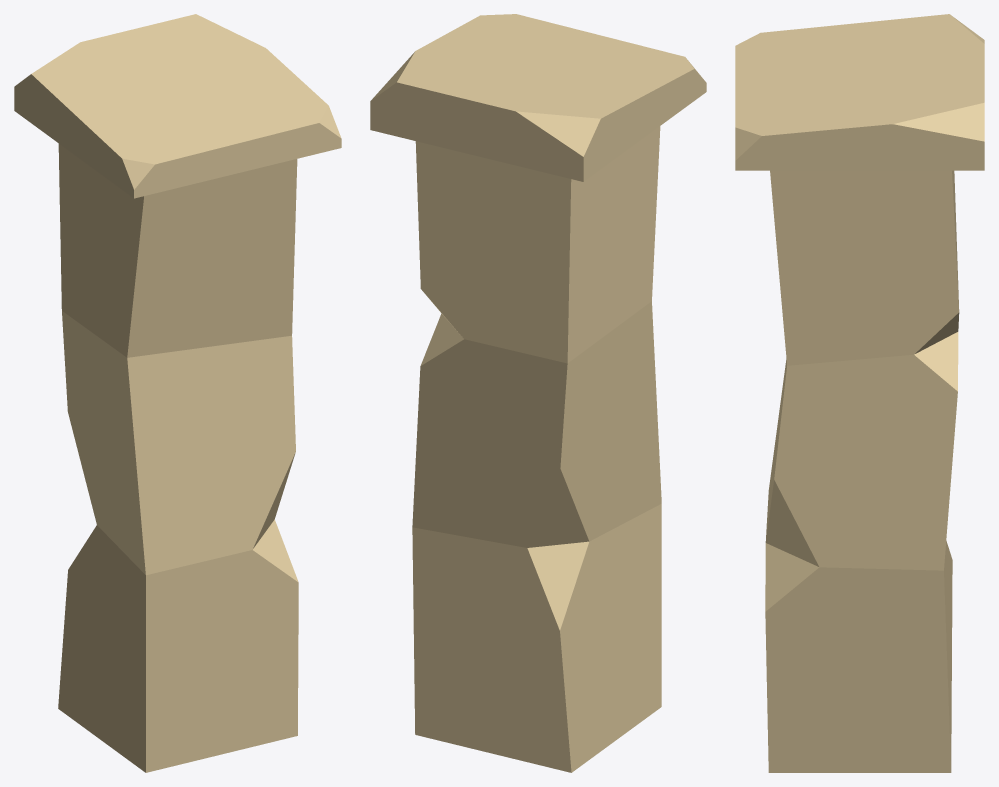
Rendered from pillar.fbx.
3 views of the same model, side by side, from view 1: azimuth 30°, elevation 25°; view 2: azimuth 150°, elevation 25°; view 3: azimuth 270°, elevation 25° (orthographic). The views are drawn at different scales.
Visible parts, largest first — view 1: Pillar; view 2: Pillar; view 3: Pillar.
Boxes of the visible parts, bbox=[...] form: Pillar: bbox=[14, 14, 341, 772]; Pillar: bbox=[370, 14, 706, 772]; Pillar: bbox=[735, 14, 984, 772].
Size of the model in its own units: 0.4542 by 1.35 by 0.4542.
